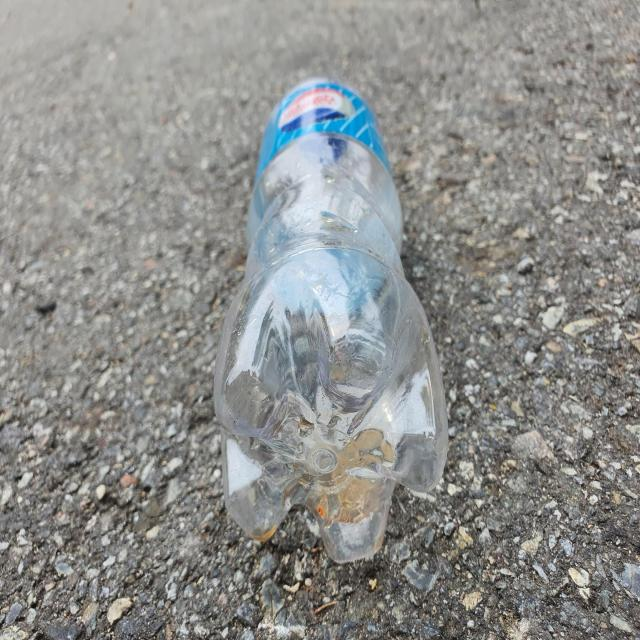plastic: (214, 78, 449, 563)
